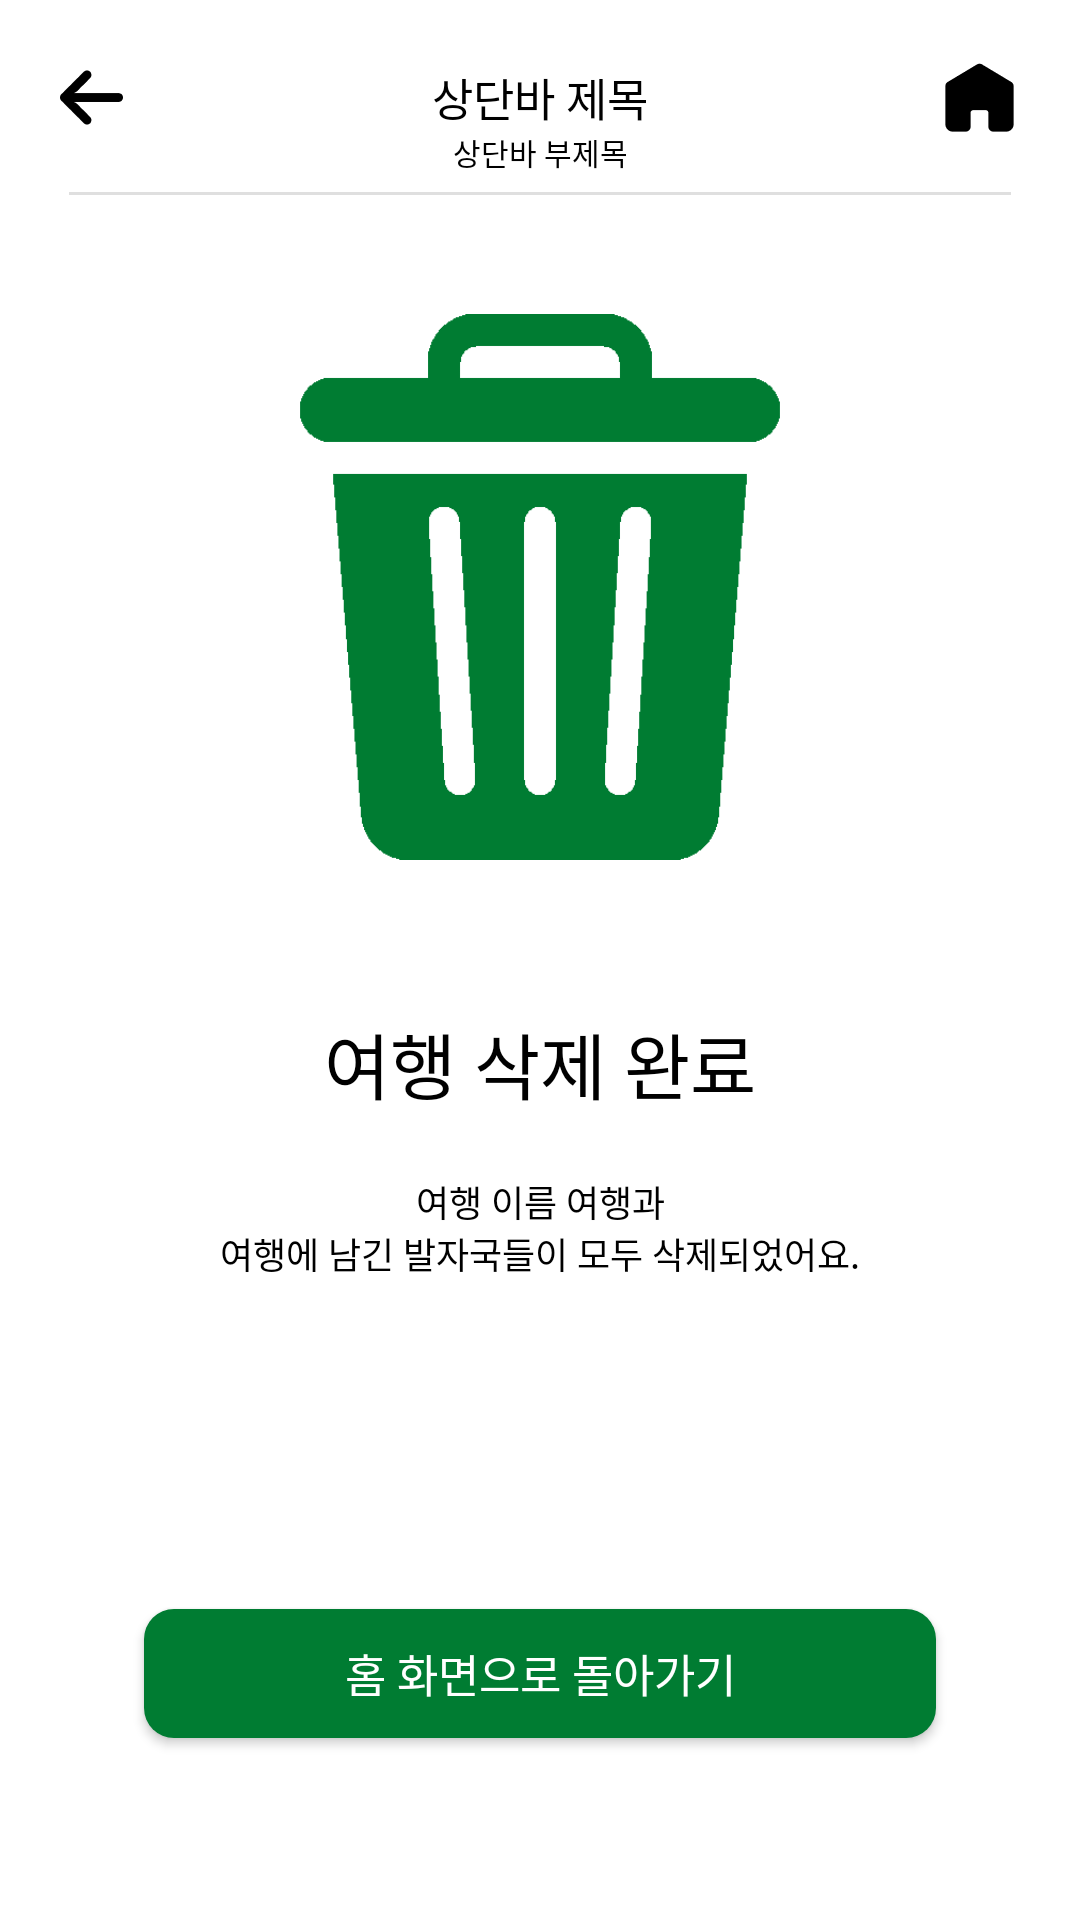

Point at icon controls on the screen. Image size 1080x1920, points as point (x, y).
base back: point (91, 97)
base home: point (979, 97)
